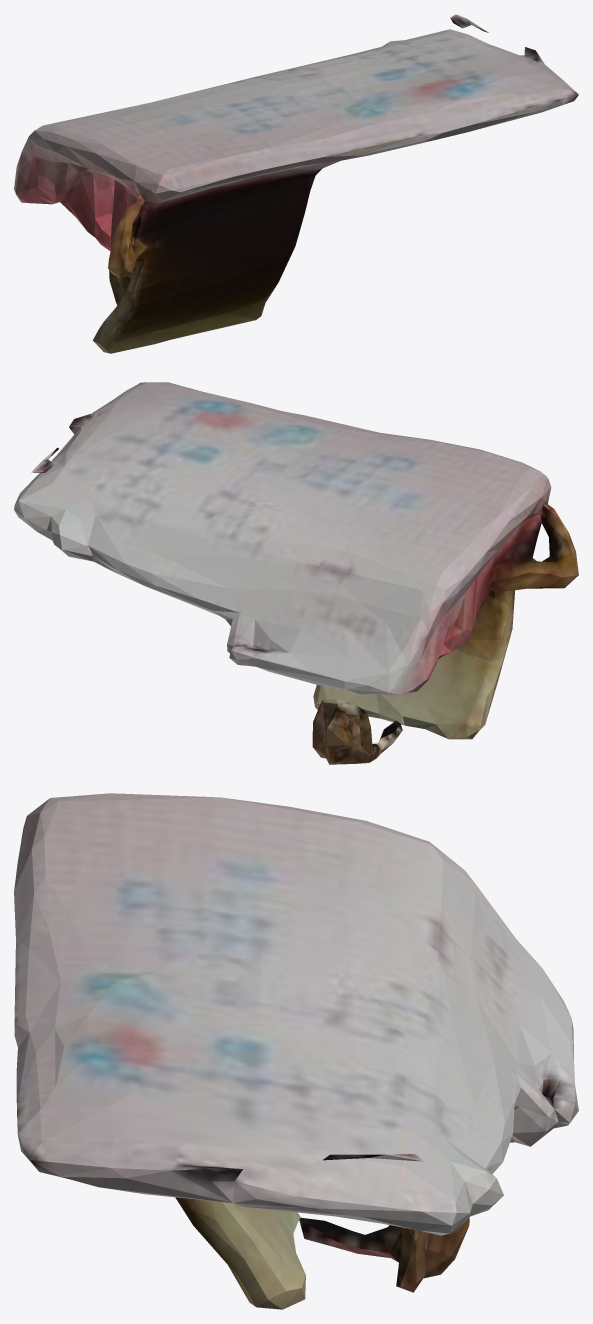
The picture shows the model from 3 angles, top to bottom: view 1: azimuth 30°, elevation 25°; view 2: azimuth 150°, elevation 25°; view 3: azimuth 270°, elevation 25°; orthographic projection. The views are drawn at different scales.
Visible parts, largest first — view 1: world; view 2: world; view 3: world.
Part boxes in pixels (x1,y1,x2,y2): world: (14,14,578,353); world: (14,382,578,764); world: (14,793,578,1309).
Size of the model in its own units: 0.292 by 0.1455 by 0.1808.
Materials: 1 (1 with a texture image).
